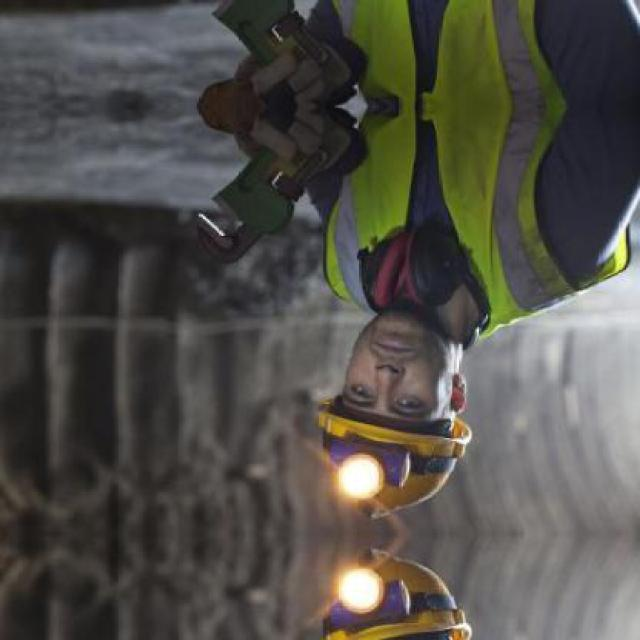safetyhelmet: (307, 368, 470, 520)
